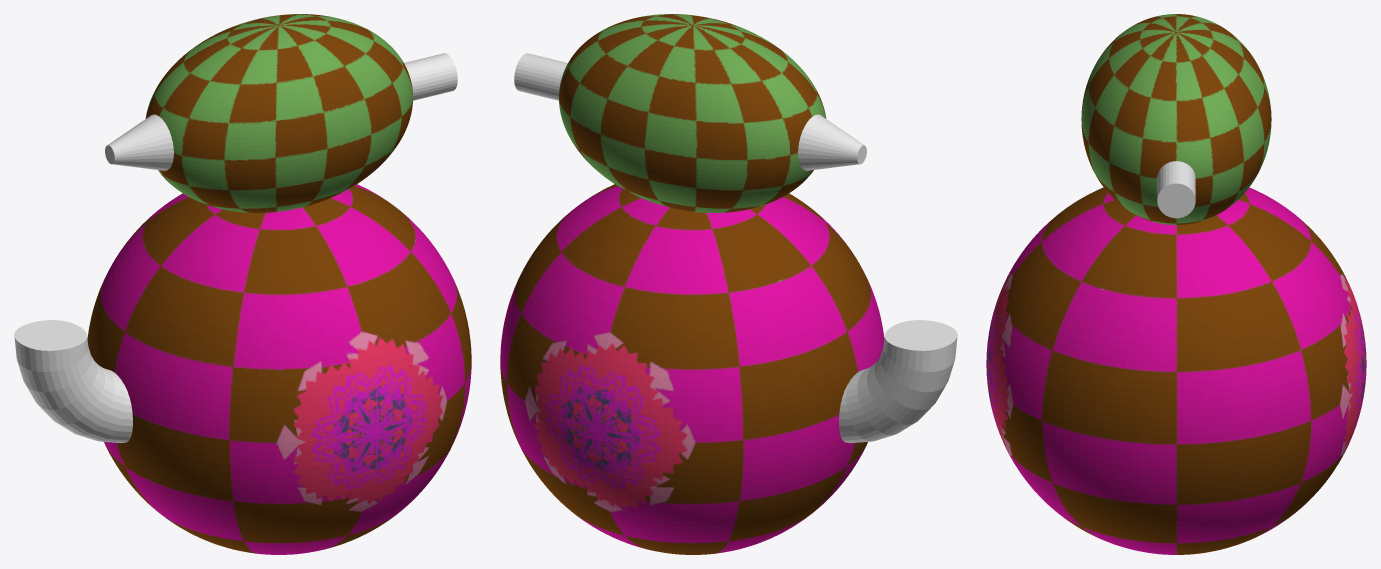
The model's file is BOD0_BMC3_BCC10_BPT4_FRC8_HEA1_HMC7_HCC3_HPT4_ELT2_ERT1_ELL1_ERL2_AP1_AAL1_AAR0_BEK0.fbx.
The picture shows the model from 3 angles, left to right: view 1: azimuth 30°, elevation 25°; view 2: azimuth 150°, elevation 25°; view 3: azimuth 270°, elevation 25°; orthographic projection.
Parts seen in each view (by area): view 1: Body, Arm, Ear, Ear.001; view 2: Body, Arm, Ear, Ear.001; view 3: Body, Ear.001.
Part boxes in pixels (x1=…): Body: x1=87, y1=14, x2=471, y2=554; Arm: x1=14, y1=320, x2=132, y2=443; Ear: x1=105, y1=114, x2=173, y2=170; Ear.001: x1=404, y1=53, x2=457, y2=100; Body: x1=500, y1=14, x2=884, y2=554; Arm: x1=839, y1=320, x2=957, y2=443; Ear: x1=798, y1=114, x2=866, y2=170; Ear.001: x1=514, y1=53, x2=567, y2=100; Body: x1=986, y1=14, x2=1366, y2=554; Ear.001: x1=1157, y1=161, x2=1195, y2=218.
Size of the model in its own units: 63.31 by 72.41 by 49.36.
1 material, 1 textured.
